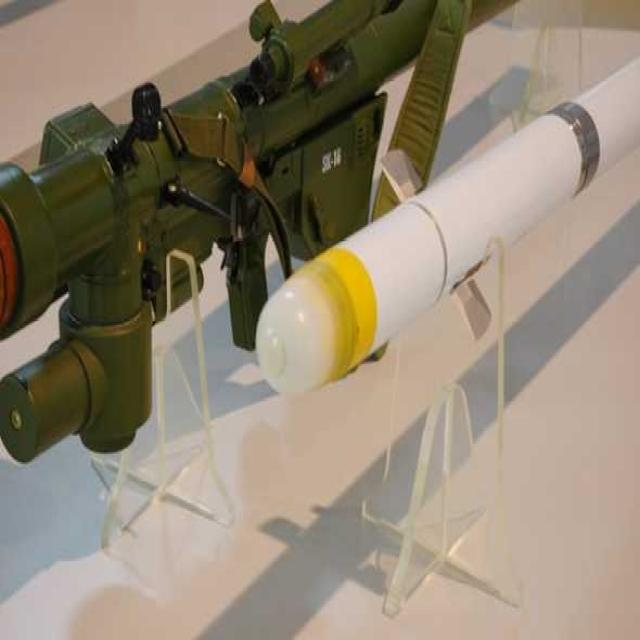missile: (259, 57, 640, 402)
